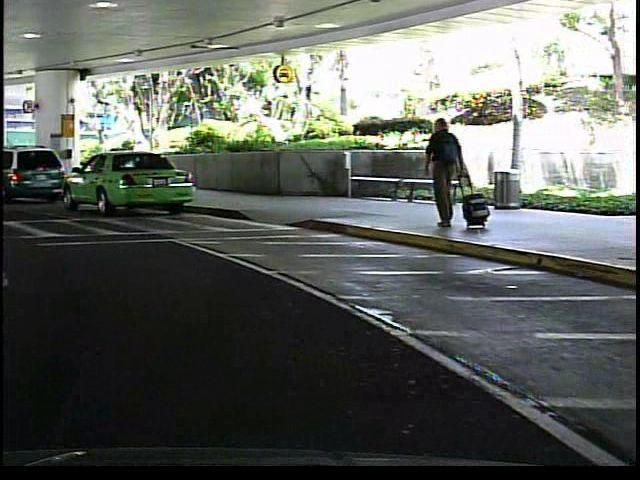person: (417, 113, 469, 239)
